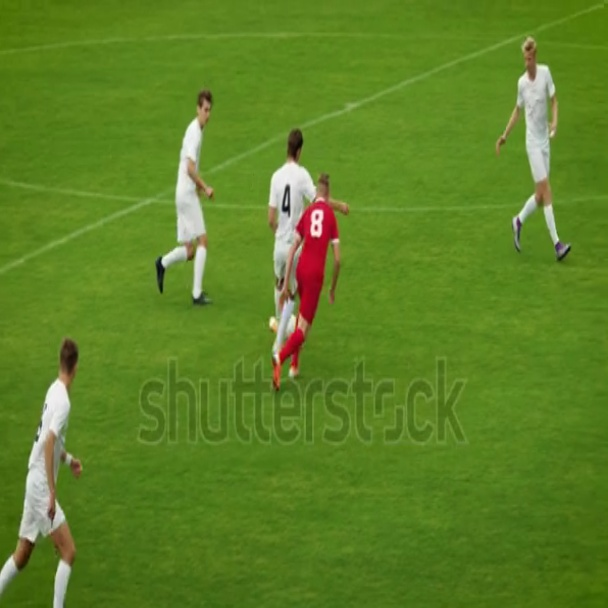ball: (266, 314, 281, 348)
